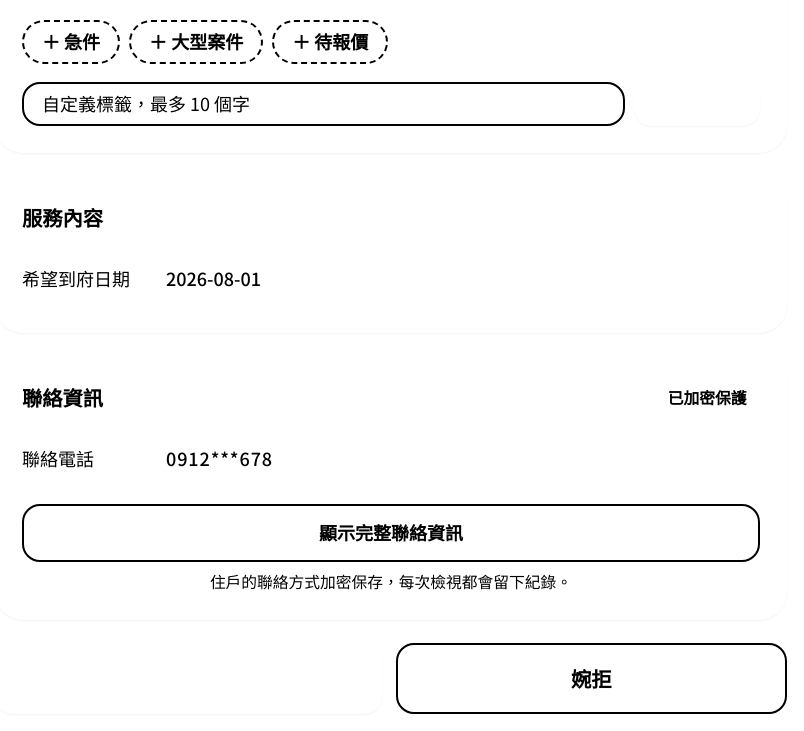
Test: VendorRequestDetailPage 接單／拒單 › 婉拒需要二次確認
(page scrolled)
Click the first "婉拒" button (action button) to trigger the modal
What coordinates should you click on to do the following:
click the button "婉拒"
I would click on:
 (591, 678)
Its box is [396, 642, 787, 714].
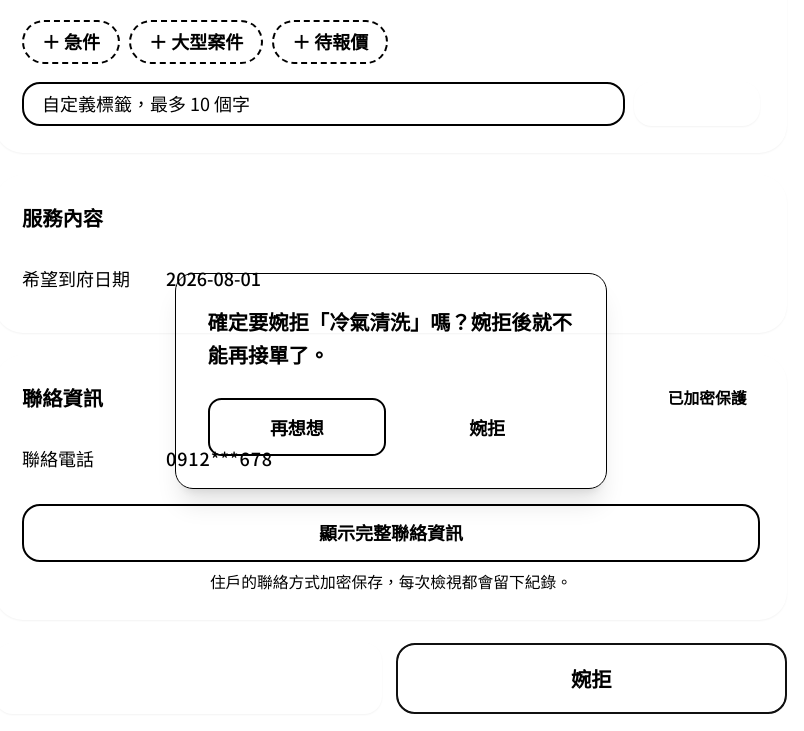
Click the second "婉拒" button (confirm button in modal)
What coordinates should you click on to do the following:
click the button "婉拒"
I would click on:
 (487, 427)
Its box is [400, 398, 575, 456].
(page scrolled)
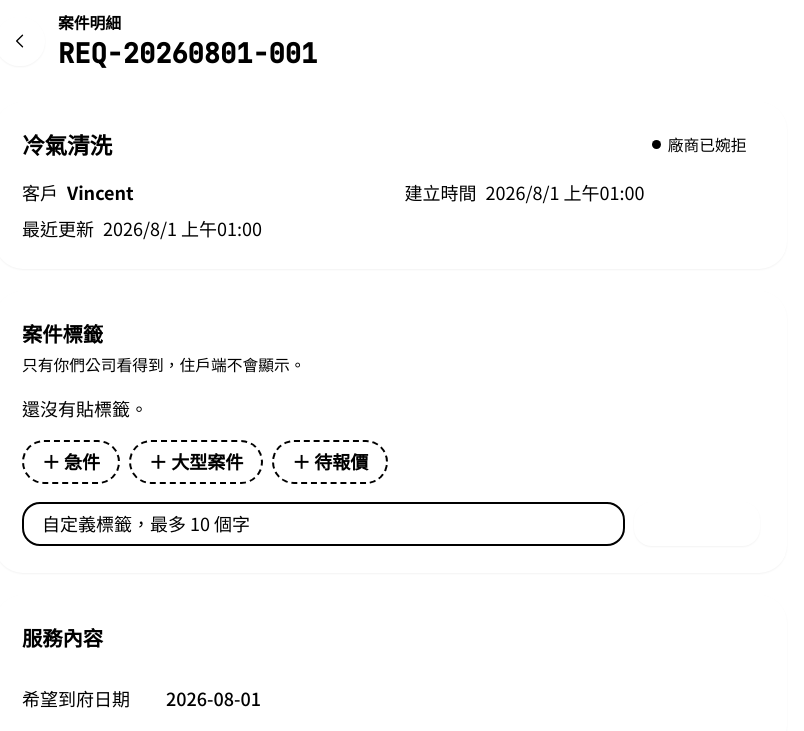
Expected: the text "廠商已婉拒" is shown, [652, 132, 746, 156]
